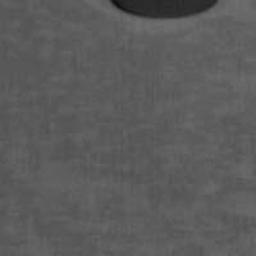Punching: (106, 0, 216, 20)
